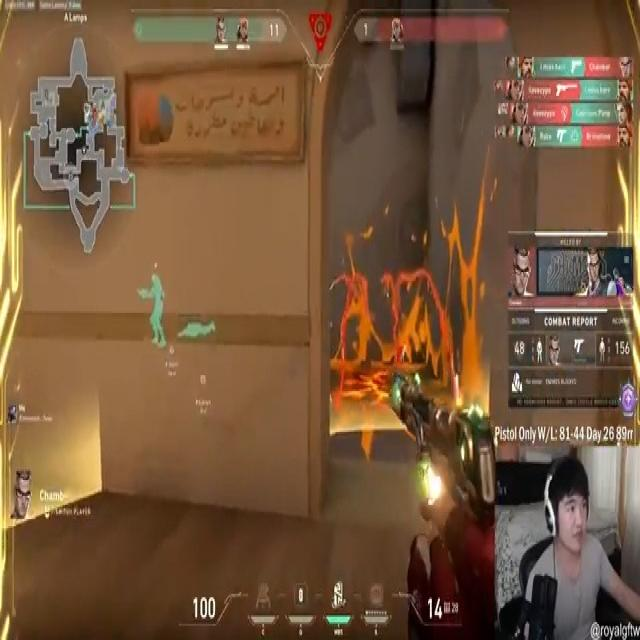ally behind wall: (136, 270, 168, 354)
